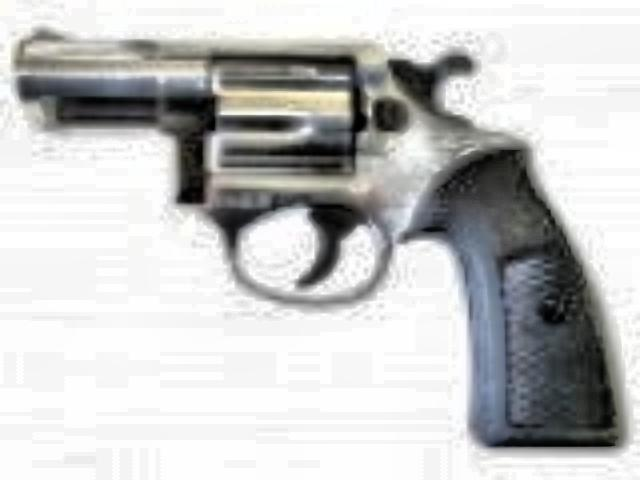pistol: (8, 24, 616, 444)
